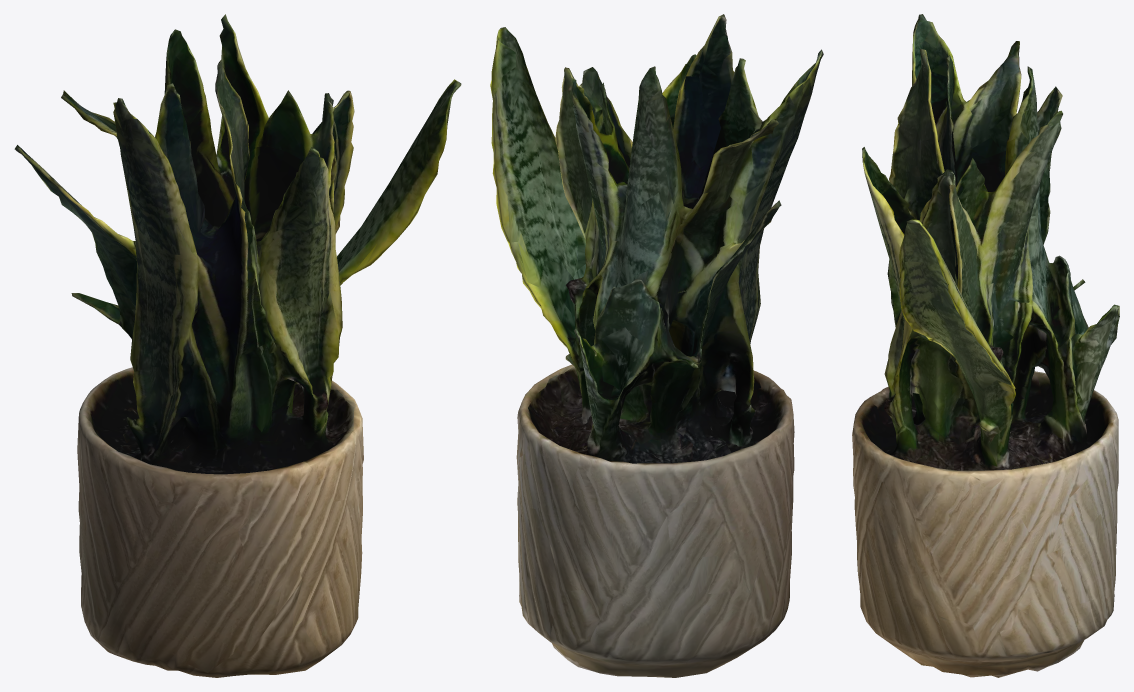
Rendered from snake_pot.glb.
3 views of the same model, side by side, from view 1: azimuth 30°, elevation 25°; view 2: azimuth 150°, elevation 25°; view 3: azimuth 270°, elevation 25° (orthographic). The views are drawn at different scales.
Visible parts, largest first — view 1: Mesh; view 2: Mesh; view 3: Mesh.
Boxes of the visible parts, x1,y1,x2,y2 form: Mesh: (14, 14, 461, 677); Mesh: (490, 14, 823, 677); Mesh: (852, 14, 1119, 677).
Size of the model in its own units: 0.2858 by 0.4674 by 0.1969.
Materials: 1 (1 with a texture image).
